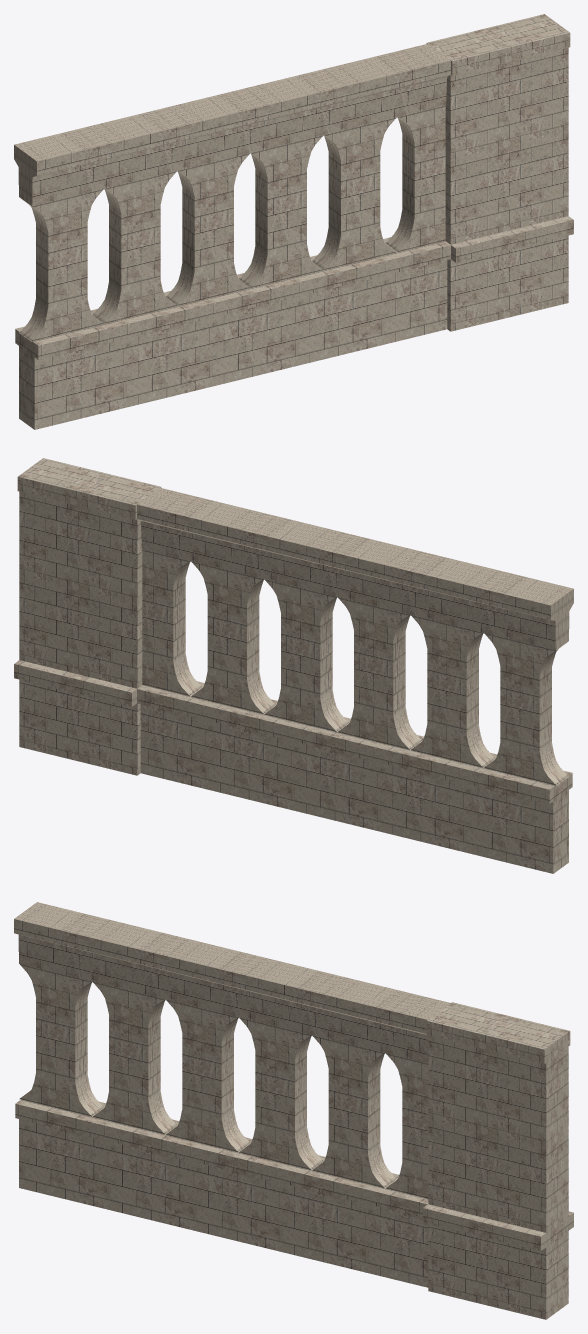
File: wall2.fbx
The picture shows the model from 3 angles, top to bottom: view 1: azimuth 30°, elevation 25°; view 2: azimuth 150°, elevation 25°; view 3: azimuth 330°, elevation 25°; orthographic projection.
Parts seen in each view (by area): view 1: Box013, Box015; view 2: Box013, Box015; view 3: Box013, Box015.
Part boxes in pixels (x1=…): Box013: x1=14, y1=43, x2=450, y2=429; Box015: x1=426, y1=14, x2=573, y2=331; Box013: x1=137, y1=487, x2=573, y2=873; Box015: x1=14, y1=458, x2=161, y2=775; Box013: x1=14, y1=902, x2=451, y2=1287; Box015: x1=423, y1=1002, x2=573, y2=1319.
Size of the model in its own units: 116 by 56.37 by 12.47.
1 material, 1 textured.
